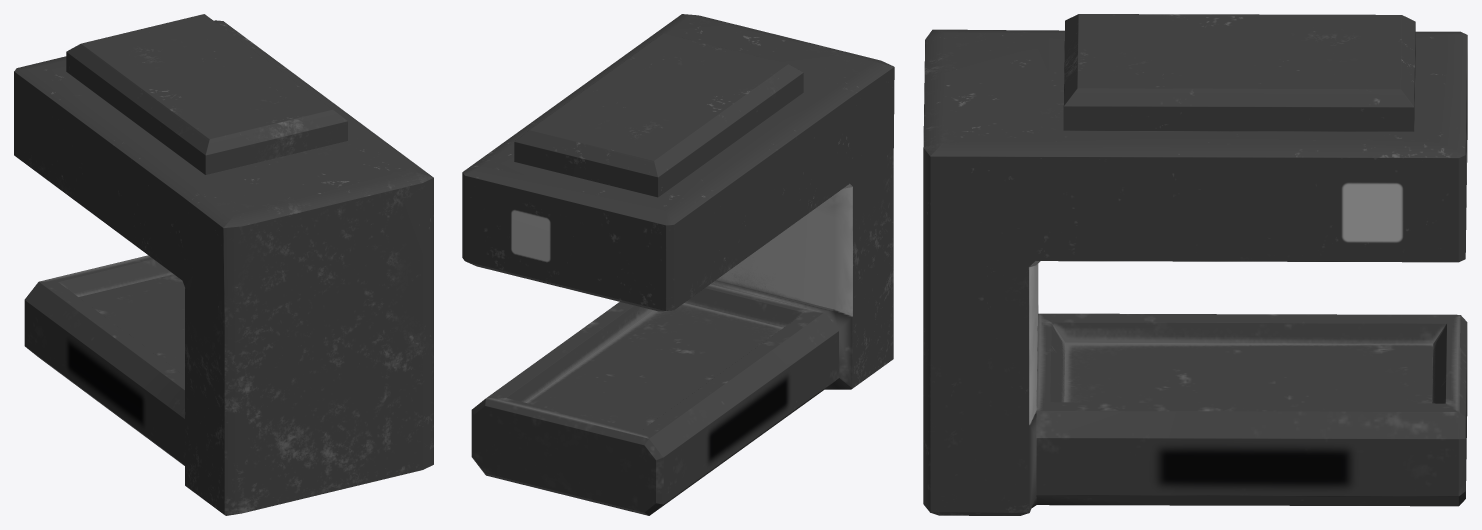
Rendered from bed.obj.
The picture shows the model from 3 angles, left to right: view 1: azimuth 30°, elevation 25°; view 2: azimuth 150°, elevation 25°; view 3: azimuth 270°, elevation 25°; orthographic projection. The views are drawn at different scales.
Visible parts, largest first — view 1: lit001; view 2: lit001; view 3: lit001.
Boxes of the visible parts, left/top/right/bottom form: lit001: left=14, top=14, right=433, bottom=515; lit001: left=462, top=14, right=894, bottom=515; lit001: left=923, top=14, right=1467, bottom=515.
Size of the model in its own units: 2.24 by 3.3 by 4.01.
Materials: 1 (1 with a texture image).
